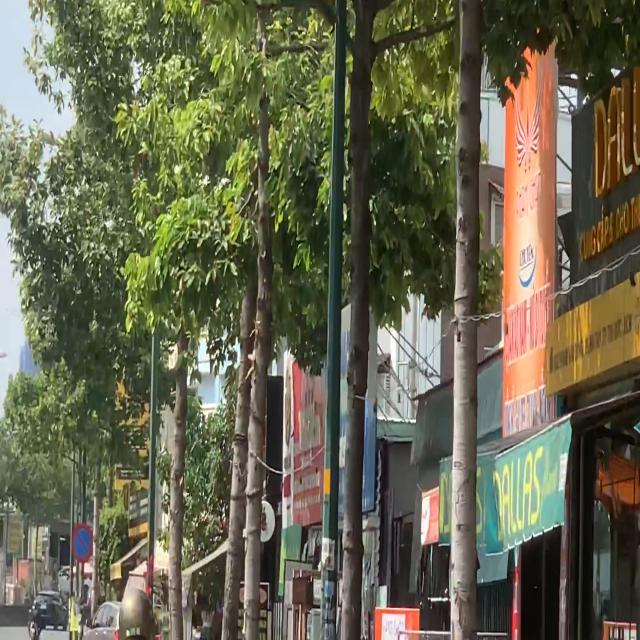Cam do: (72, 523, 93, 563)
